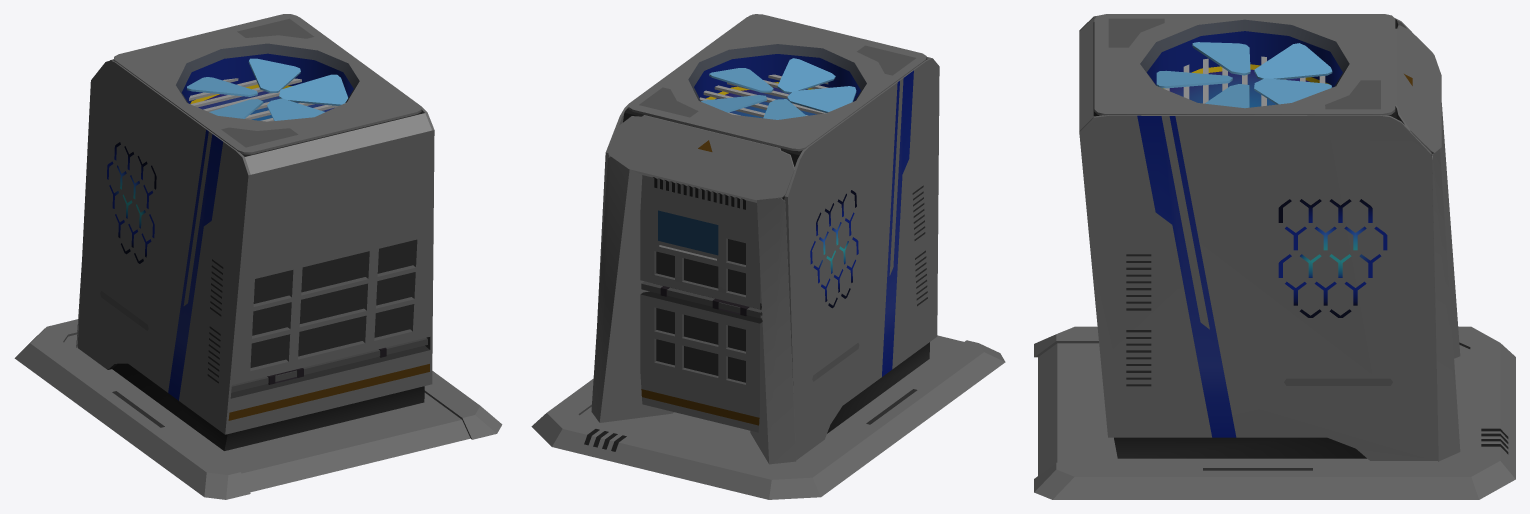
The model's file is W_O_Outdoorunit_001_L1.fbx.
The picture shows the model from 3 angles, left to right: view 1: azimuth 30°, elevation 25°; view 2: azimuth 150°, elevation 25°; view 3: azimuth 270°, elevation 25°; orthographic projection. The views are drawn at different scales.
Visible parts, largest first — view 1: W_O_Outdoorunit_001_L1; view 2: W_O_Outdoorunit_001_L1; view 3: W_O_Outdoorunit_001_L1.
Part boxes in pixels (x1,y1,x2,y2): W_O_Outdoorunit_001_L1: [14, 14, 502, 499]; W_O_Outdoorunit_001_L1: [531, 14, 1005, 499]; W_O_Outdoorunit_001_L1: [1034, 14, 1515, 499].
Size of the model in its own units: 1.61 by 1.63 by 2.01.
